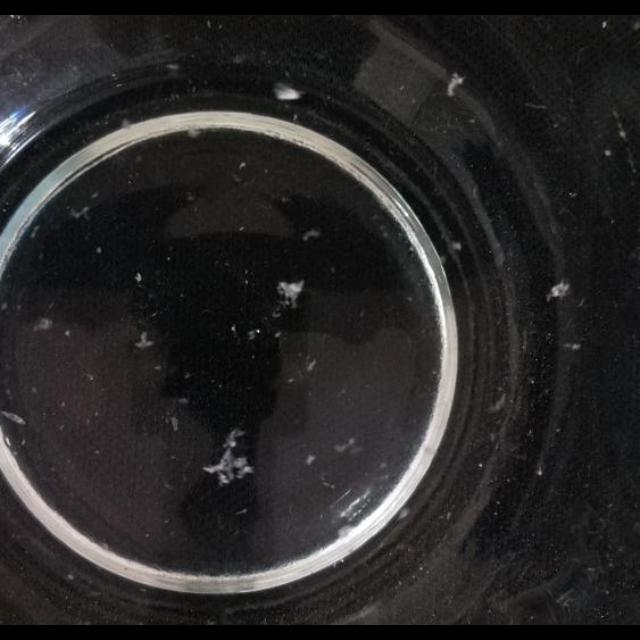Fibre: (204, 431, 256, 485), (276, 278, 306, 310), (610, 110, 630, 148), (547, 280, 571, 300), (447, 72, 465, 96), (333, 436, 357, 454), (1, 410, 27, 426), (134, 332, 156, 350), (337, 522, 358, 538), (71, 204, 91, 220), (302, 228, 322, 242), (34, 318, 54, 332), (564, 342, 582, 352), (170, 416, 180, 432), (451, 240, 462, 252)
microbeads: (489, 392, 507, 412), (398, 506, 410, 520), (307, 358, 317, 372), (246, 328, 258, 339), (306, 454, 316, 466), (230, 324, 238, 338), (235, 508, 247, 516), (178, 396, 188, 404), (238, 161, 246, 171), (134, 272, 142, 282), (86, 372, 94, 381), (155, 364, 163, 372), (604, 149, 612, 157), (536, 466, 542, 476), (568, 192, 578, 198), (96, 246, 102, 254), (64, 329, 70, 337), (477, 462, 483, 470)
